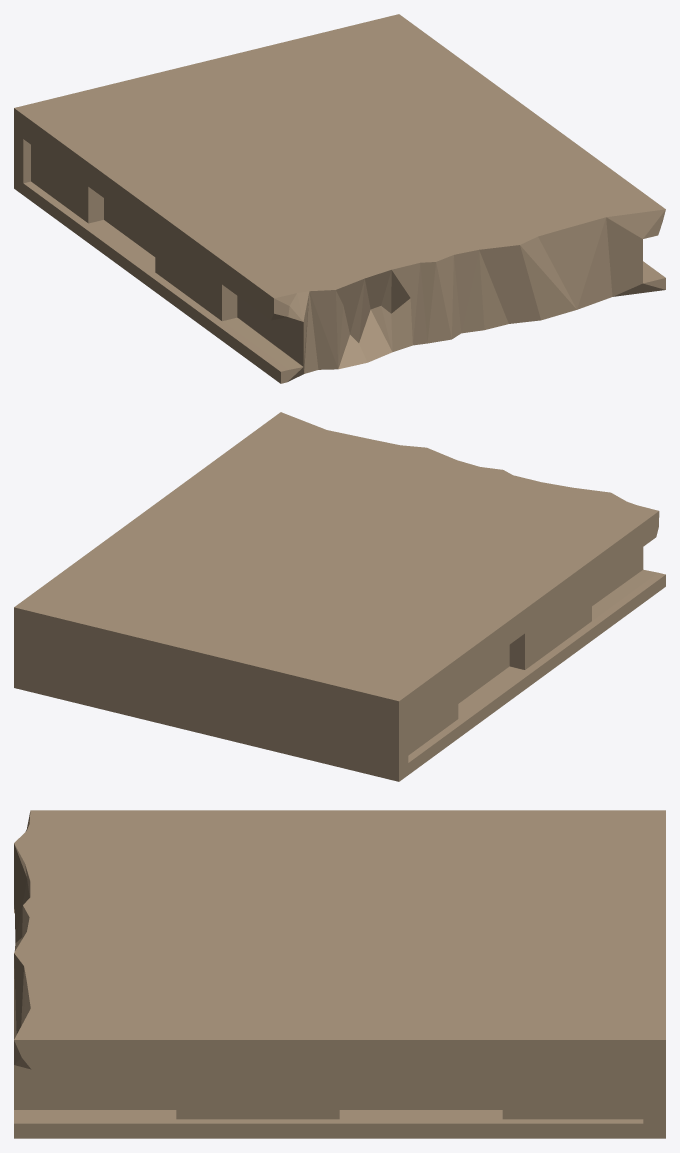
The model's file is bridgeBroken.fbx.
The picture shows the model from 3 angles, top to bottom: view 1: azimuth 30°, elevation 25°; view 2: azimuth 150°, elevation 25°; view 3: azimuth 270°, elevation 25°; orthographic projection. The views are drawn at different scales.
Visible parts, largest first — view 1: Cube; view 2: Cube; view 3: Cube.
Boxes of the visible parts, x1=… form: Cube: x1=14, y1=14, x2=665, y2=383; Cube: x1=14, y1=412, x2=665, y2=781; Cube: x1=14, y1=810, x2=665, y2=1138.
Bounding box in the file's own units: 500 × 100 × 600.
